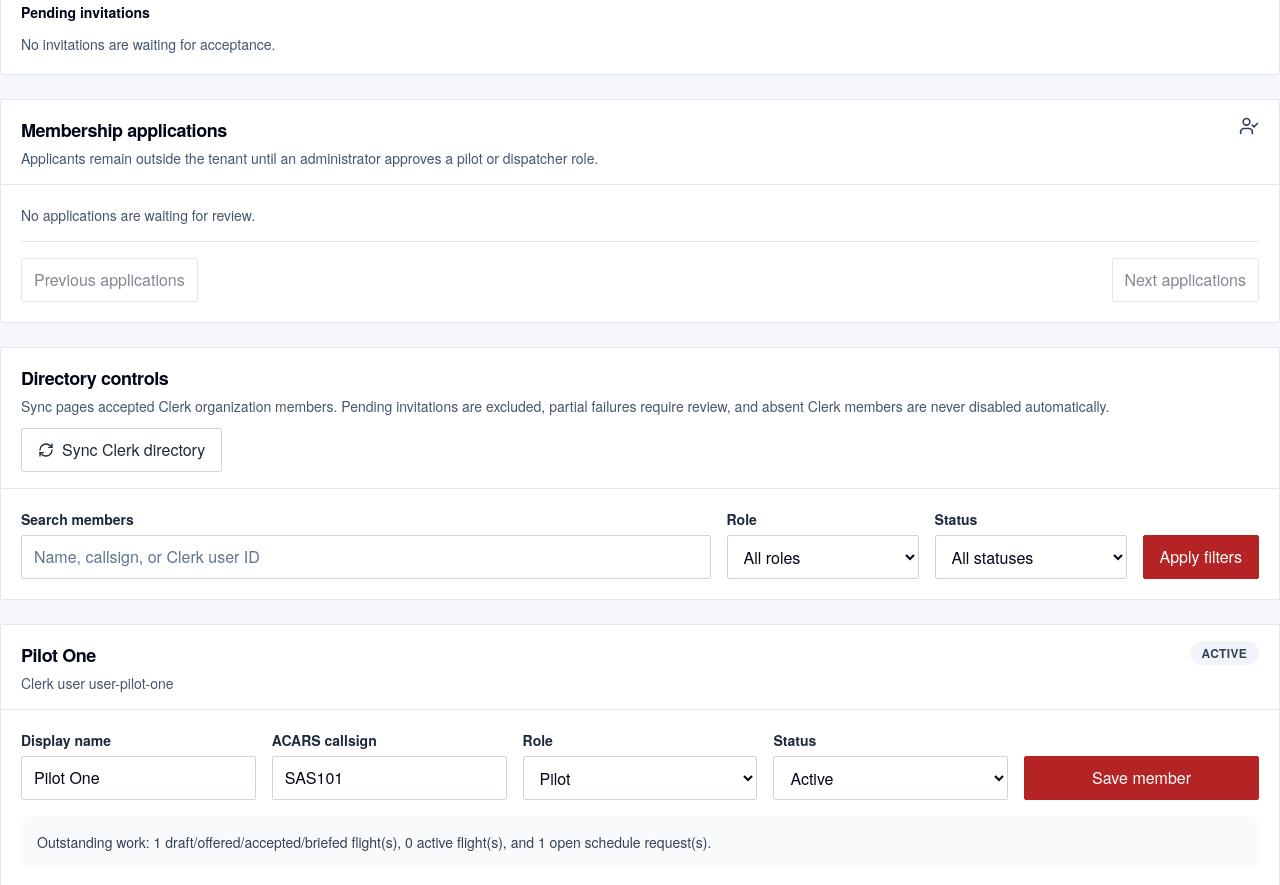
admin member console › distinguishes aggregate skipped totals from the bounded issue sample
(page scrolled)
Click the button "Sync Clerk directory" at [122, 450], box [21,428,222,472]
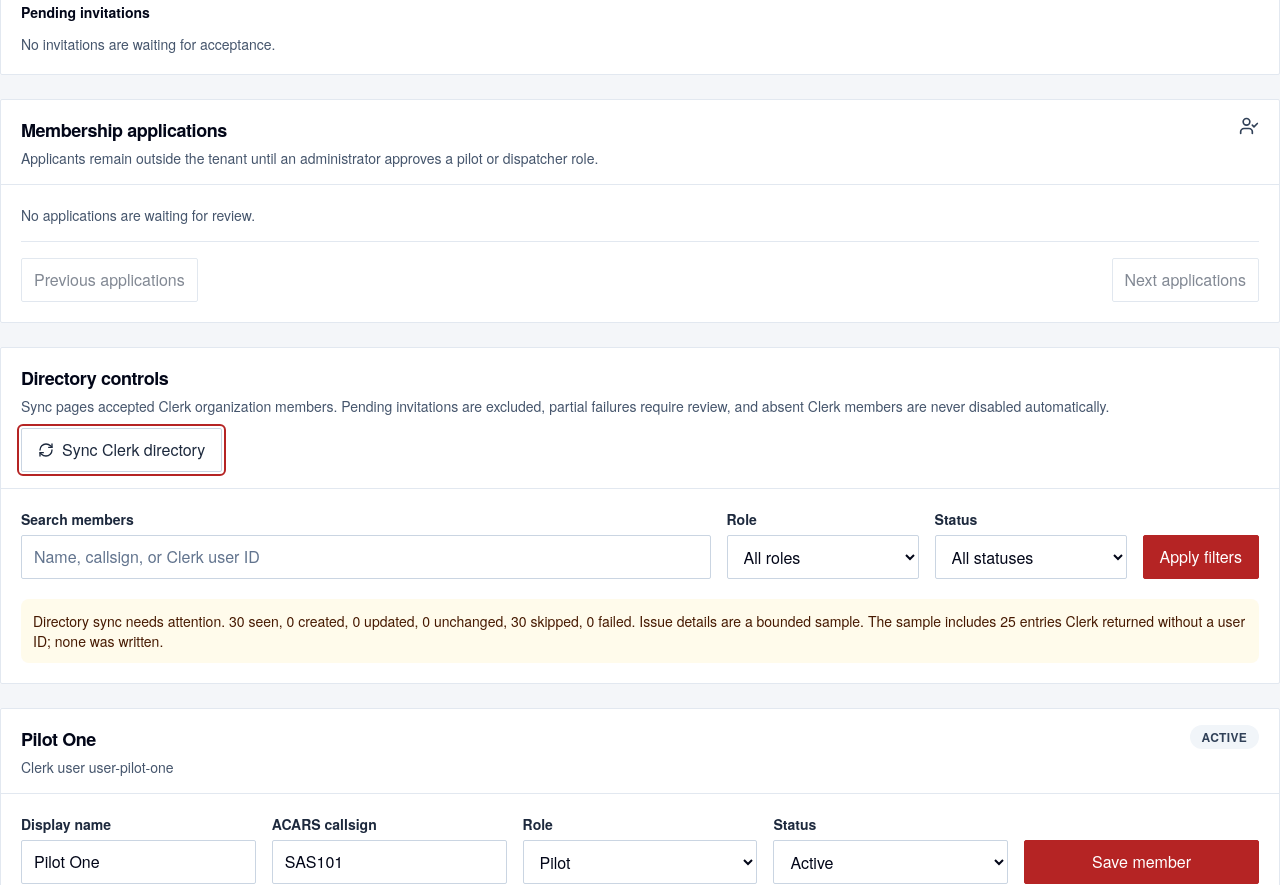
Result: the message shows "30 skipped" at [21,599,1259,663]
Result: the message shows "Issue details are a bounded sample" at [635,611,864,631]
Result: the message shows "The sample includes 25 entries" at [33,611,1245,651]
